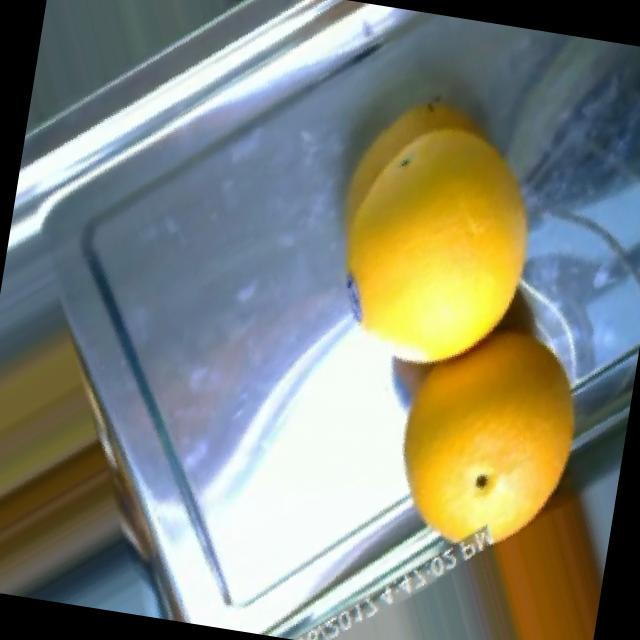Fruit: (314, 56, 537, 269)
